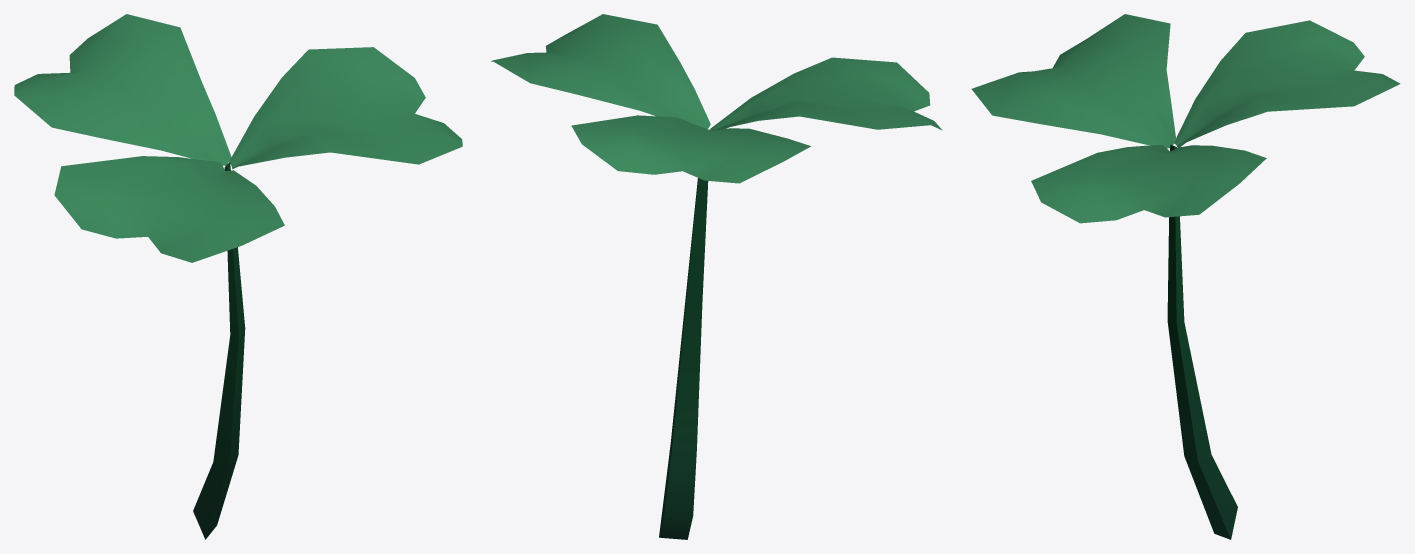
The model's file is Clover.fbx.
3 views of the same model, side by side, from view 1: azimuth 30°, elevation 25°; view 2: azimuth 150°, elevation 25°; view 3: azimuth 270°, elevation 25° (orthographic).
Parts seen in each view (by area): view 1: Plane.158; view 2: Plane.158; view 3: Plane.158.
Boxes of the visible parts, x1,y1,x2,y2 form: Plane.158: (14, 14, 462, 539); Plane.158: (491, 14, 942, 539); Plane.158: (971, 14, 1400, 539).
Bounding box in the file's own units: 170 × 186 × 159.
